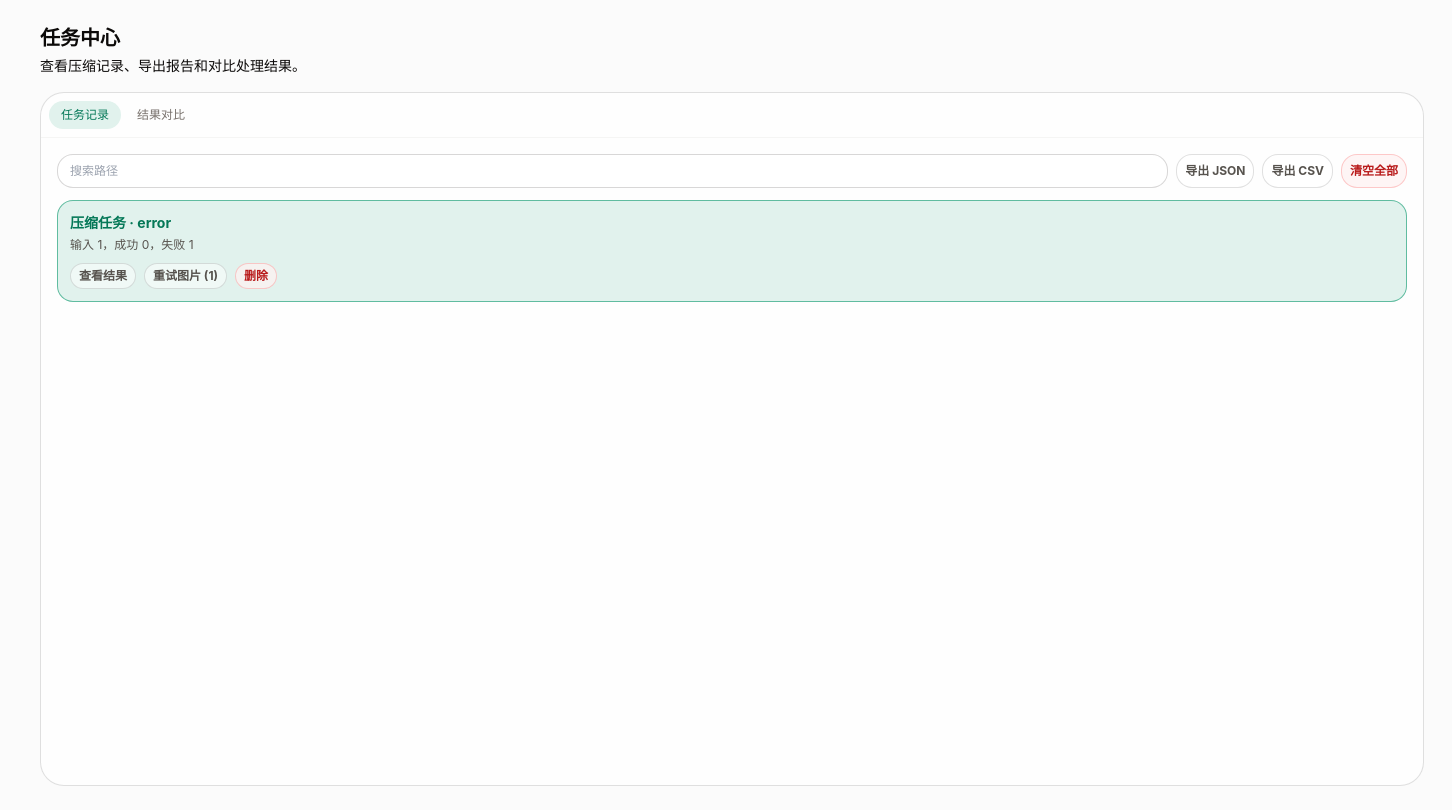
Test: TaskCenter › routes failed image items back to the image tool for confirmation
What coordinates should you click on to do the following:
click the button "重试图片 (1)"
I would click on:
 (186, 276)
Its box is 144,263 -> 227,289.
(page scrolled)
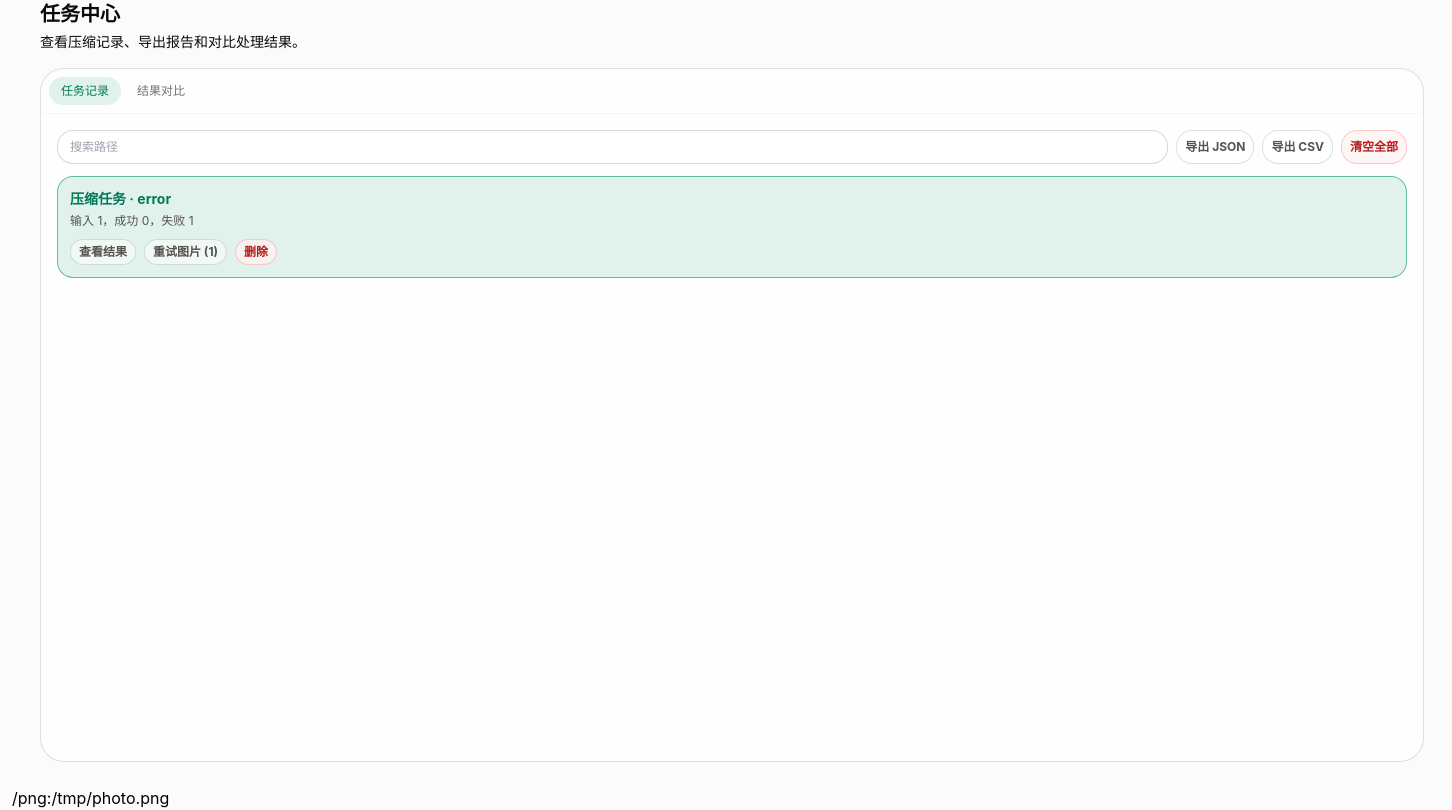
Result: the text "/png:/tmp/photo.png" is shown at 12,788 -> 169,808
